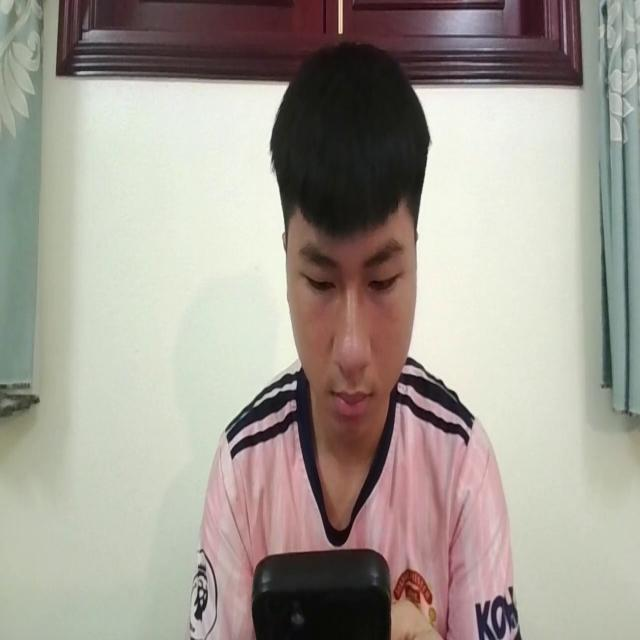phone: (253, 544, 389, 640)
student: (194, 40, 516, 640)
